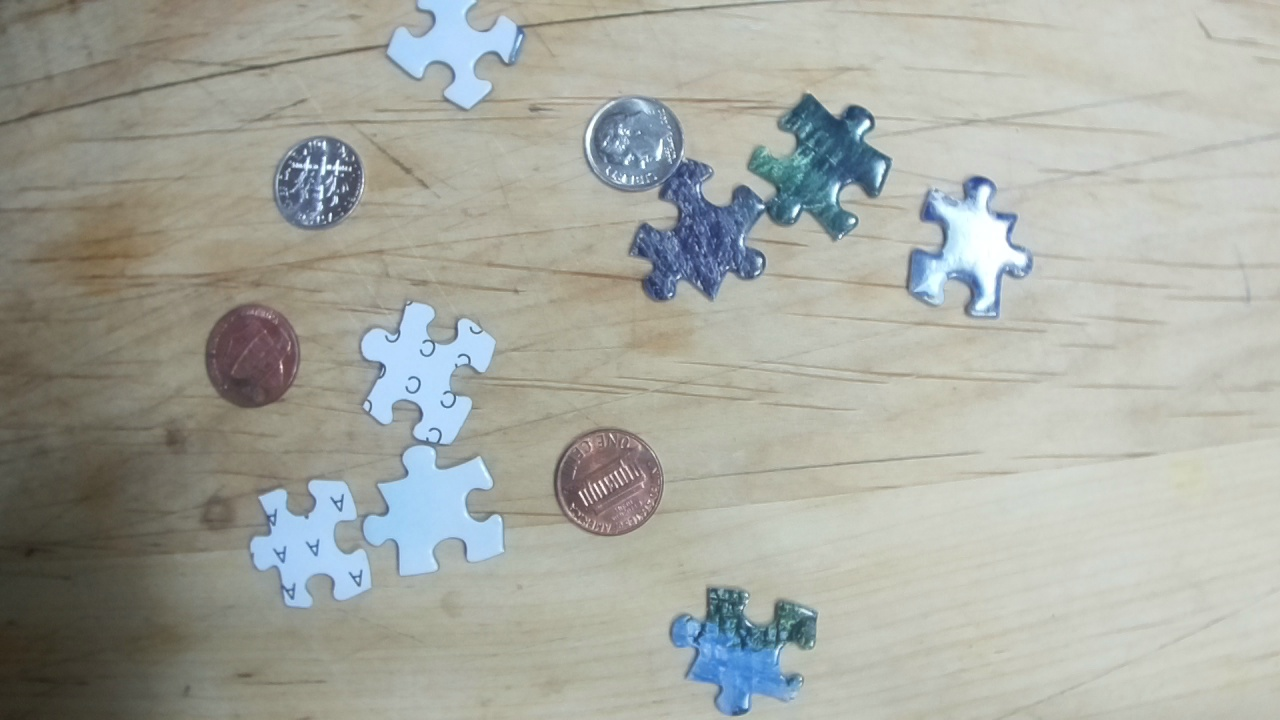dime: (578, 94, 686, 194), (269, 133, 367, 235)
penny: (550, 425, 666, 539), (199, 301, 299, 407)
